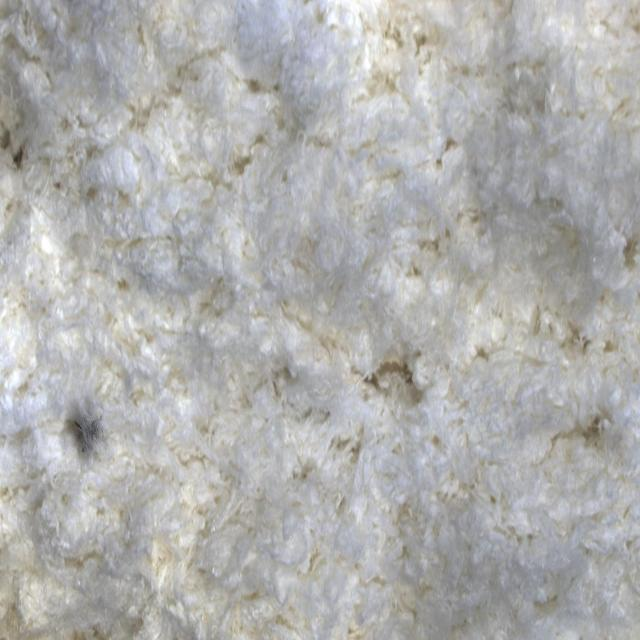dust: (35, 382, 124, 472)
